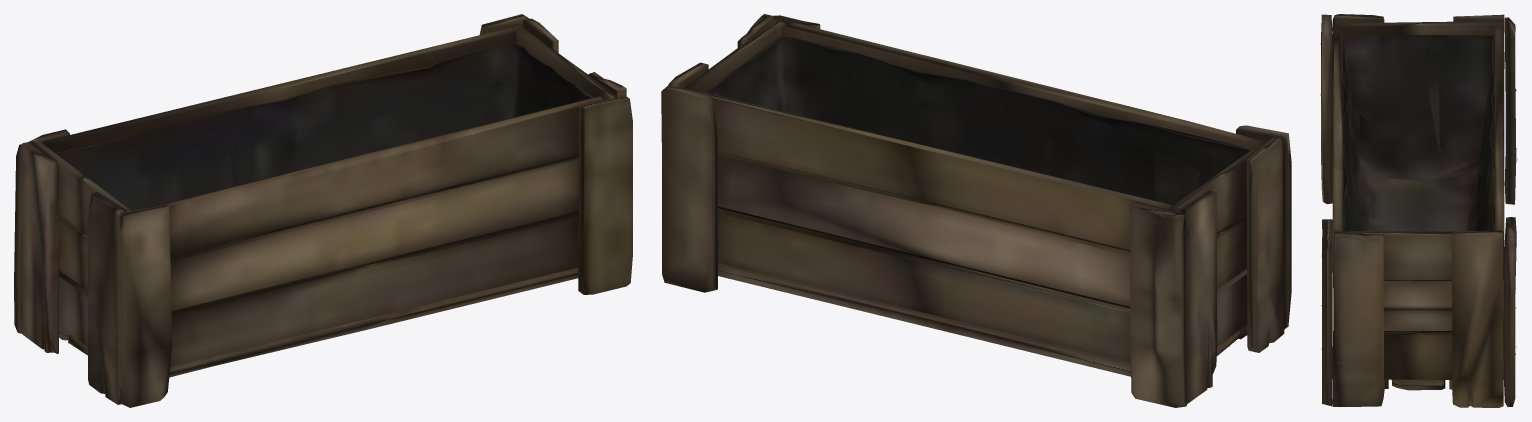
Rendered from planter_box_02_lod2.glb.
3 views of the same model, side by side, from view 1: azimuth 30°, elevation 25°; view 2: azimuth 150°, elevation 25°; view 3: azimuth 270°, elevation 25° (orthographic). The views are drawn at different scales.
Visible parts, largest first — view 1: planter_box_02; view 2: planter_box_02; view 3: planter_box_02.
Part boxes in pixels (bbox=[...]): planter_box_02: bbox=[14, 14, 632, 407]; planter_box_02: bbox=[661, 14, 1291, 407]; planter_box_02: bbox=[1320, 14, 1517, 407].
Bounding box in the file's own units: 1.25 × 0.4513 × 0.4664.
1 material, 1 textured.
